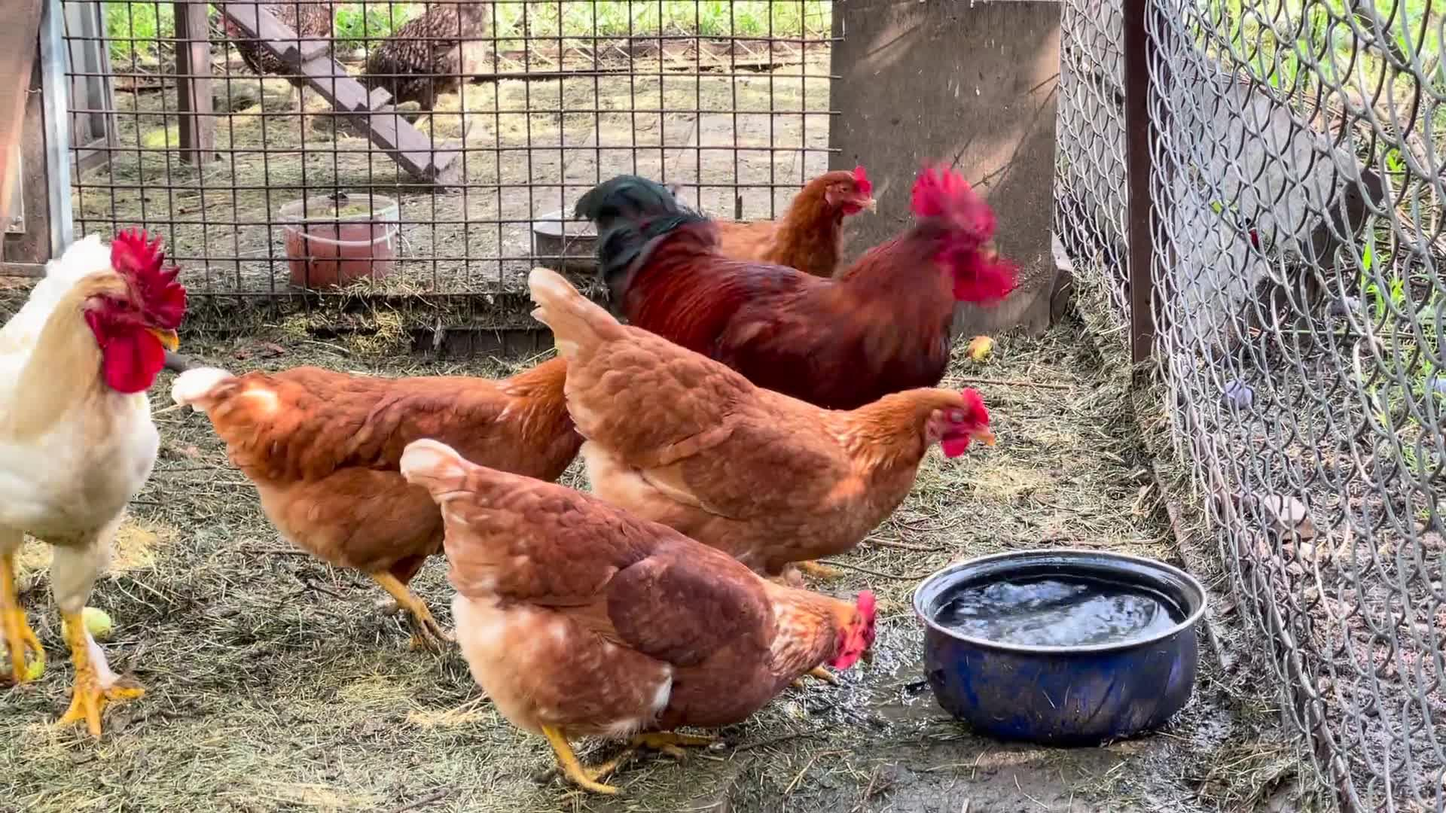Normal: (401, 437, 876, 797), (516, 254, 1000, 581), (189, 362, 570, 631), (2, 219, 186, 749), (599, 177, 1022, 387), (691, 157, 890, 270)
